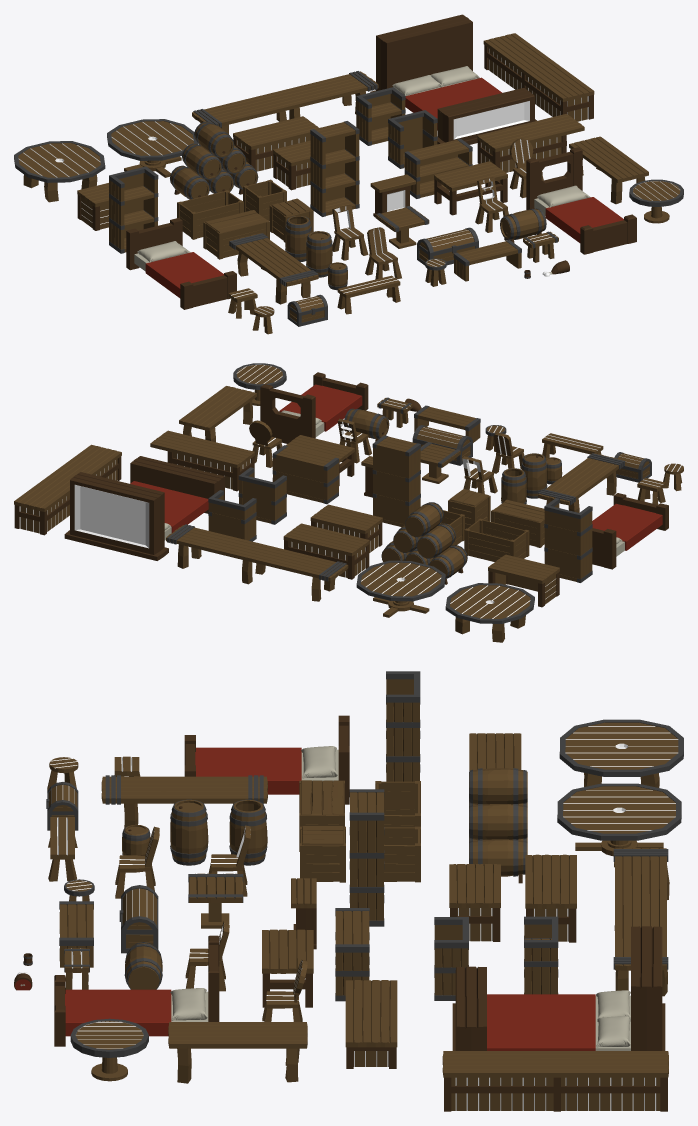
The model's file is tavern-furniture.glb.
3 renders of one model, top to bottom at view 1: azimuth 30°, elevation 25°; view 2: azimuth 150°, elevation 25°; view 3: azimuth 270°, elevation 25°, orthographic. The views are drawn at different scales.
Visible parts, largest first — view 1: Cylinder.091_200, Cylinder.093_201, Cylinder.024_186, Cylinder.022_202, Cylinder.028_208, Cube.539_302, Cube.356_36, Cube.358_199, Cylinder.112_266, Cylinder.005_249, Cylinder.062_458, Cylinder.069_183 (+41 smaller); view 2: Cylinder.091_200, Cylinder.024_186, Cylinder.093_201, Cylinder.028_208, Cylinder.022_202, Cube.542_411, Cube.539_302, Cylinder.005_249, Cylinder.112_266, Cube.356_36, Cube.222_430, Cylinder.062_458 (+34 smaller); view 3: Cube.358_199, Cylinder.022_202, Cylinder.028_208, Cylinder.024_186, Cylinder.091_200, Cube.356_36, Cylinder.112_266, Cube.539_302, Cylinder.005_249, Cylinder.069_183, Cylinder.068_182, Cylinder.093_201 (+47 smaller).
Part boxes in pixels (left/top/right/bottom): Cylinder.091_200: left=370, top=14, right=472, bottom=92; Cylinder.093_201: left=437, top=88, right=536, bottom=144; Cylinder.024_186: left=192, top=71, right=378, bottom=126; Cylinder.022_202: left=18, top=143, right=100, bottom=177; Cylinder.028_208: left=111, top=121, right=193, bottom=155; Cube.539_302: left=145, top=252, right=223, bottom=298; Cube.356_36: left=545, top=197, right=623, bottom=242; Cube.358_199: left=405, top=77, right=502, bottom=130; Cylinder.112_266: left=229, top=233, right=318, bottom=286; Cylinder.005_249: left=569, top=136, right=648, bottom=182; Cylinder.062_458: left=233, top=116, right=318, bottom=149; Cylinder.069_183: left=523, top=61, right=594, bottom=101; Cylinder.091_200: left=64, top=472, right=168, bottom=560; Cylinder.024_186: left=166, top=525, right=348, bottom=581; Cylinder.093_201: left=130, top=456, right=224, bottom=513; Cylinder.028_208: left=360, top=562, right=441, bottom=596; Cylinder.022_202: left=450, top=585, right=530, bottom=618; Cube.542_411: left=376, top=448, right=405, bottom=524; Cube.539_302: left=592, top=503, right=662, bottom=550; Cylinder.005_249: left=179, top=386, right=256, bottom=431; Cylinder.112_266: left=538, top=453, right=625, bottom=505; Cube.356_36: left=279, top=384, right=362, bottom=431; Cube.222_430: left=548, top=511, right=577, bottom=578; Cylinder.062_458: left=283, top=523, right=369, bottom=556; Cube.358_199: left=487, top=994, right=595, bottom=1050; Cylinder.022_202: left=565, top=722, right=678, bottom=769; Cylinder.028_208: left=563, top=786, right=675, bottom=833; Cylinder.024_186: left=615, top=848, right=666, bottom=970; Cylinder.091_200: left=631, top=926, right=665, bottom=1050; Cube.356_36: left=65, top=989, right=171, bottom=1036; Cylinder.112_266: left=101, top=776, right=267, bottom=803; Cube.539_302: left=195, top=747, right=301, bottom=794; Cylinder.005_249: left=168, top=1022, right=307, bottom=1048; Cylinder.069_183: left=442, top=1051, right=558, bottom=1077; Cylinder.068_182: left=552, top=1051, right=668, bottom=1077; Cylinder.093_201: left=452, top=966, right=486, bottom=1050.
Bounding box in the file's own units: 237 × 35.94 × 190.
